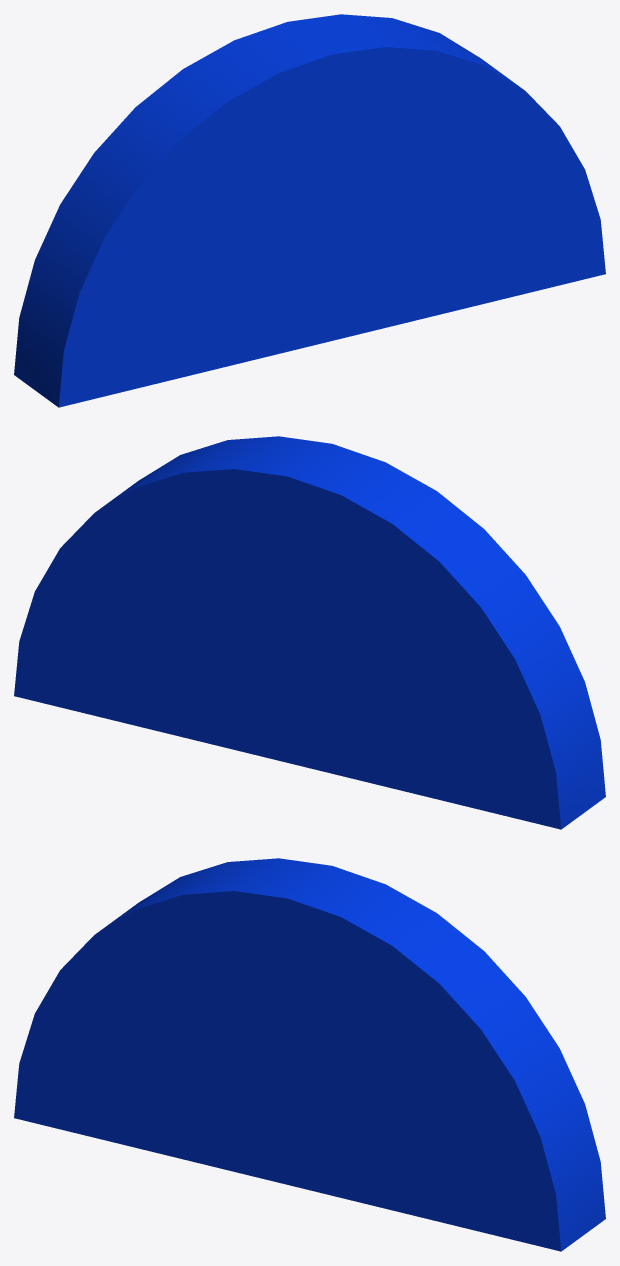
Rendered from bar.fbx.
The picture shows the model from 3 angles, top to bottom: view 1: azimuth 30°, elevation 25°; view 2: azimuth 150°, elevation 25°; view 3: azimuth 330°, elevation 25°; orthographic projection.
Parts seen in each view (by area): view 1: bar; view 2: bar; view 3: bar.
Boxes of the visible parts, x1=… form: bar: x1=14, y1=14, x2=605, y2=407; bar: x1=14, y1=436, x2=605, y2=829; bar: x1=14, y1=858, x2=605, y2=1251.
Bounding box in the file's own units: 200 × 100 × 28.29.
